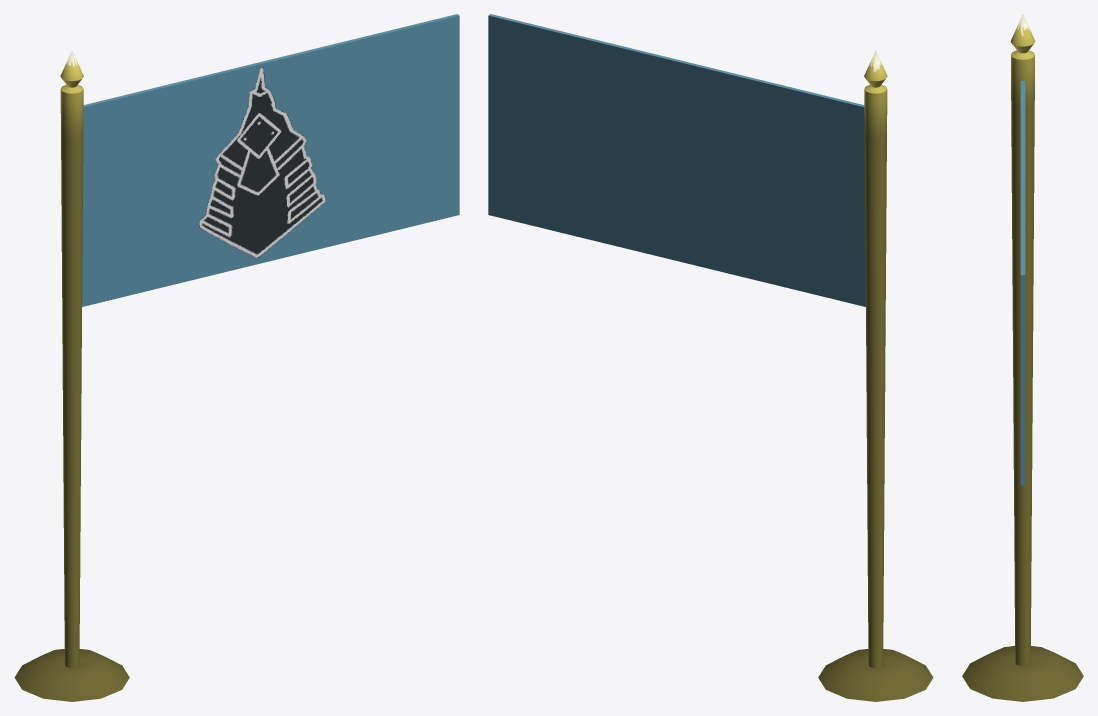
Rendered from minionFlag_Final.fbx.
3 renders of one model, left to right at view 1: azimuth 30°, elevation 25°; view 2: azimuth 150°, elevation 25°; view 3: azimuth 270°, elevation 25°, orthographic. The views are drawn at different scales.
Visible parts, largest first — view 1: flagg, FLAG_POST; view 2: flagg, FLAG_POST; view 3: FLAG_POST, flagg.
Part boxes in pixels (bbox=[...]): flagg: bbox=[82, 14, 459, 306]; FLAG_POST: bbox=[14, 50, 129, 701]; flagg: bbox=[488, 14, 865, 306]; FLAG_POST: bbox=[818, 50, 933, 701]; FLAG_POST: bbox=[962, 14, 1083, 701]; flagg: bbox=[1020, 81, 1025, 485].
Bounding box in the file's own units: 114 × 157 × 26.23.
